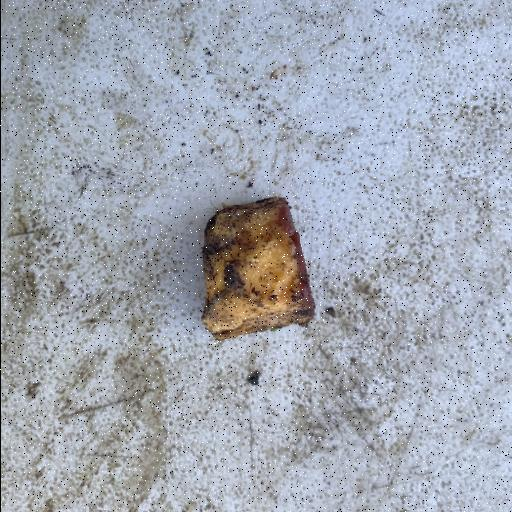Waste: (198, 194, 316, 340)
